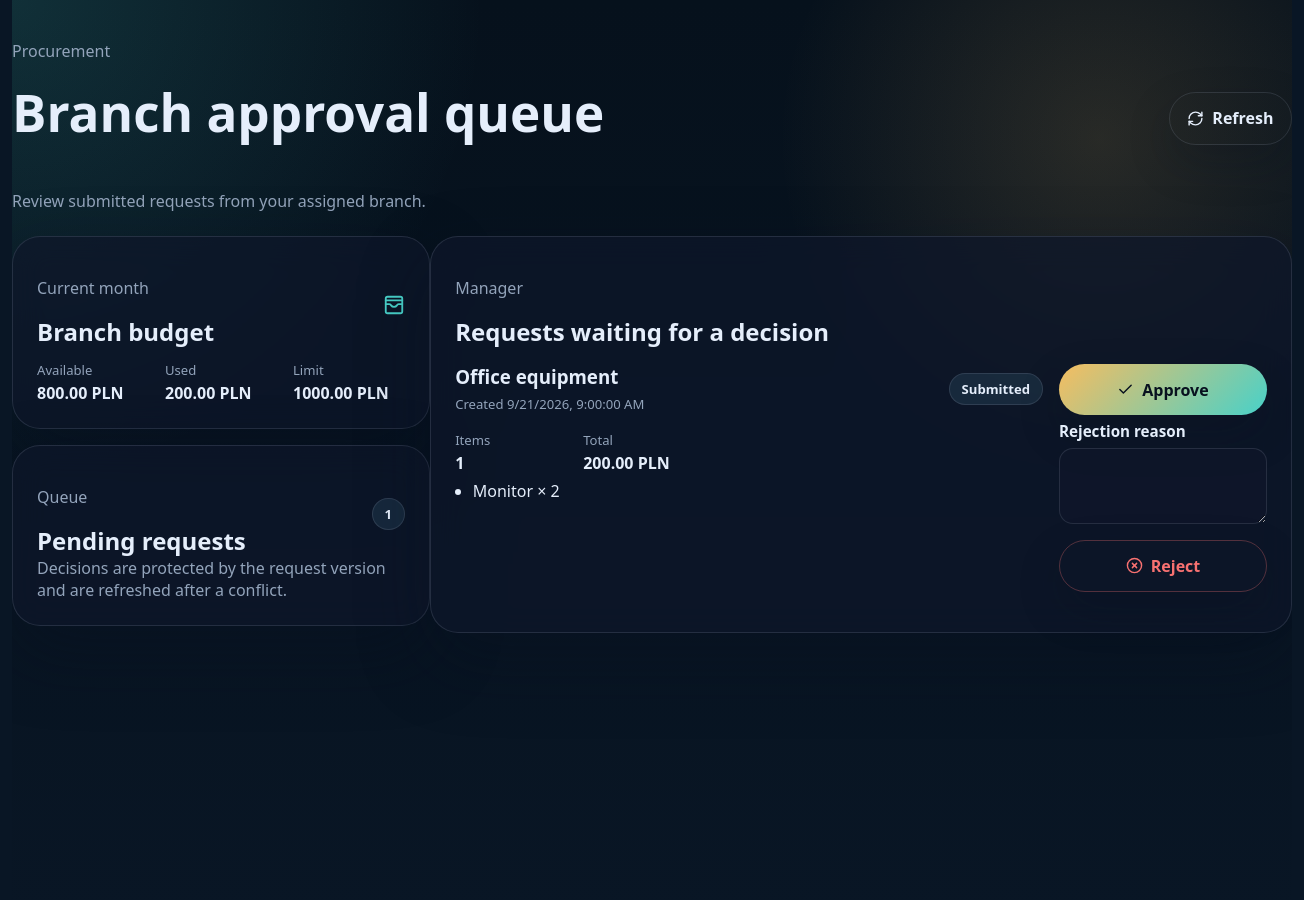
Test case: PurchaseRequestApprovals page › requires a reason before sending a rejection and refreshes after the decision
Expected: the heading "Branch approval queue" is shown, [12,86,604,140]
Click the button "Reject": (1163, 566) [1059,540,1267,592]
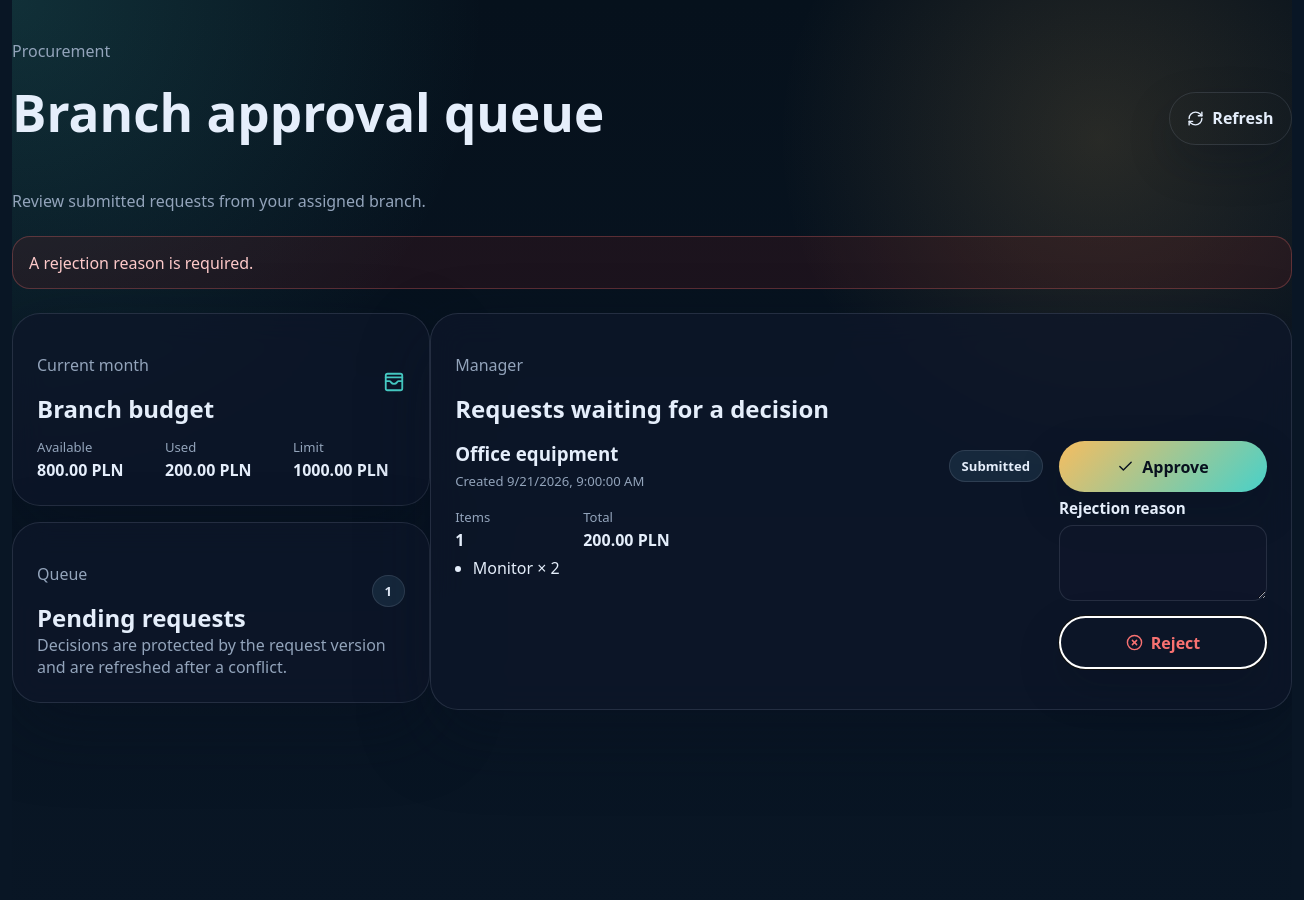
Result: the message reads "A rejection reason is required." at [29,252,253,274]
In the text box labelled "Rejection reason": (1163, 562) [1059,525,1267,600], type "The request is not required."
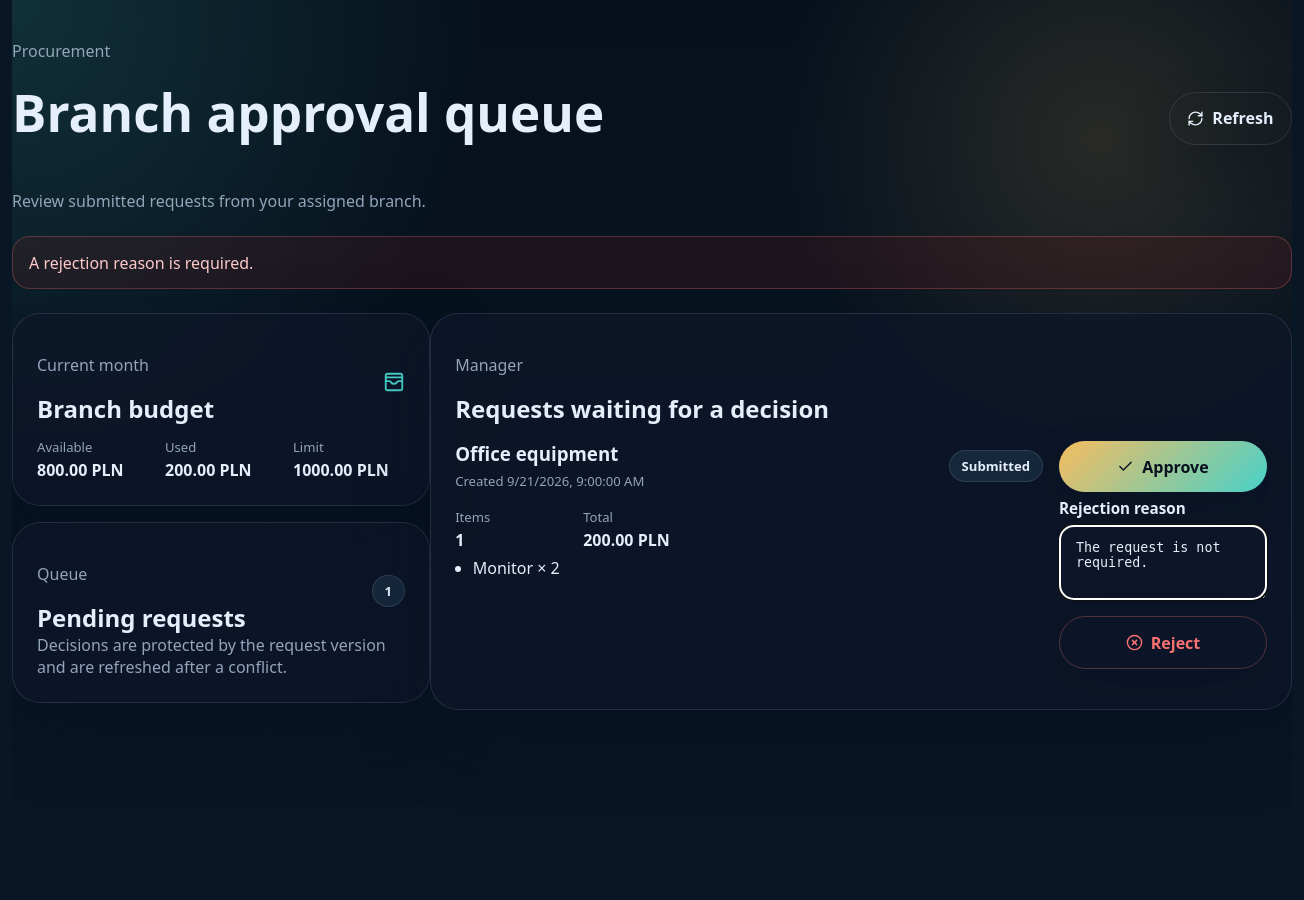
Click the button "Reject": (1163, 643) [1059,616,1267,669]
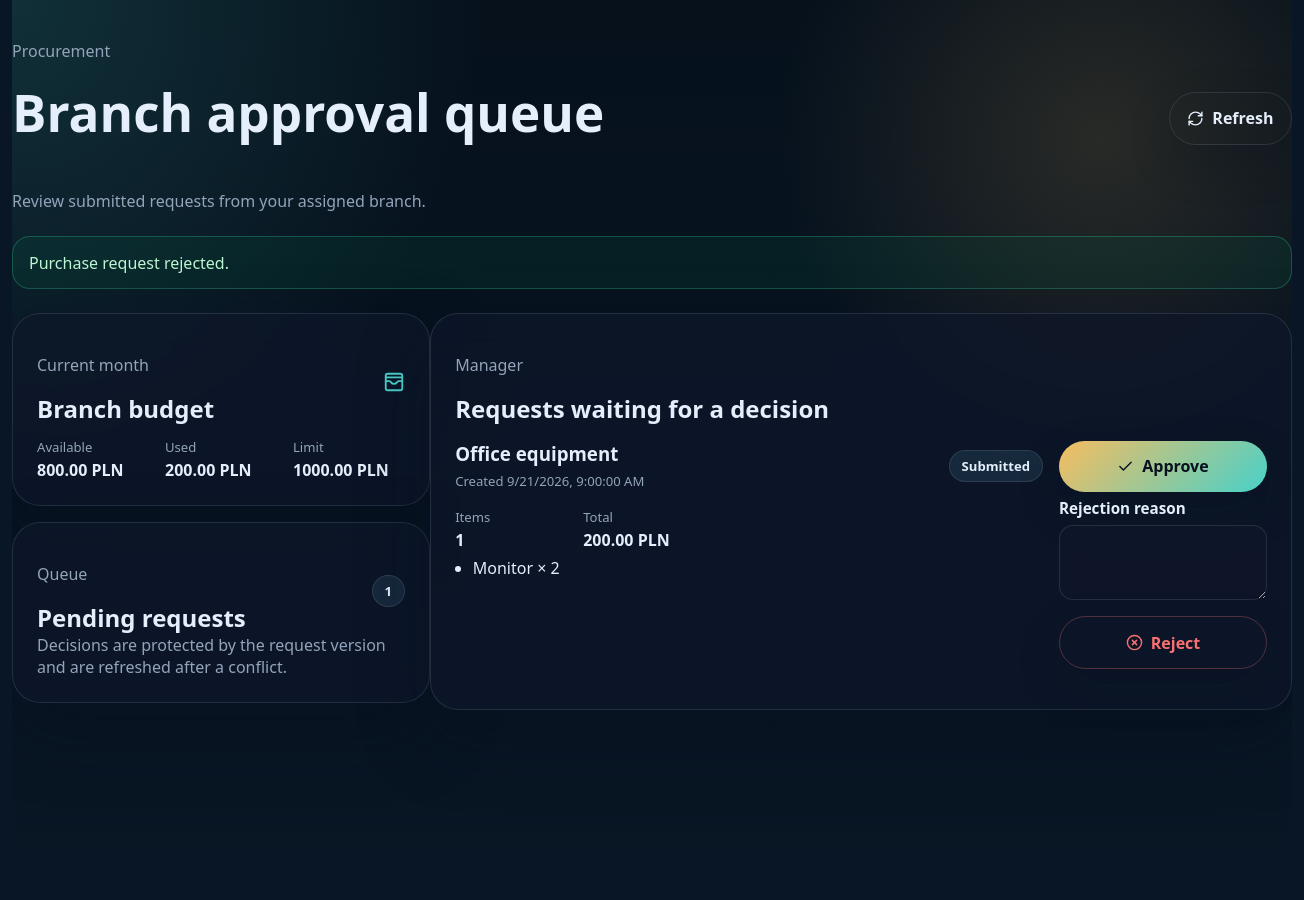
Expected: the button "Refresh" is enabled, [1169,92,1292,144]
Result: the message reads "Purchase request rejected." at [29,252,229,274]
